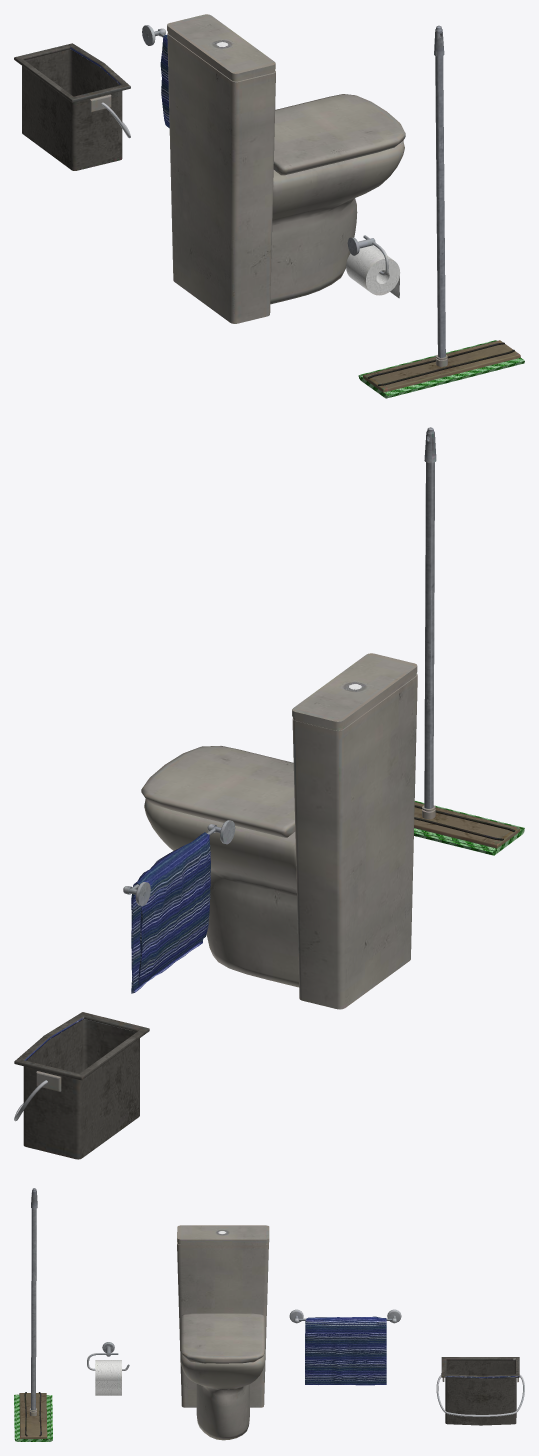
File: bath_set.glb
The picture shows the model from 3 angles, top to bottom: view 1: azimuth 30°, elevation 25°; view 2: azimuth 150°, elevation 25°; view 3: azimuth 270°, elevation 25°; orthographic projection. The views are drawn at different scales.
Visible parts, largest first — view 1: sm_klozet, sm_kova, sm_paspas, sm_pecetelik, sm_havluluk; view 2: sm_klozet, sm_kova, sm_havluluk, sm_paspas; view 3: sm_klozet, sm_havluluk, sm_kova, sm_paspas, sm_pecetelik.
Part boxes in pixels (left/top/right/bottom): sm_klozet: left=167, top=14, right=405, bottom=323; sm_kova: left=14, top=43, right=130, bottom=170; sm_paspas: left=358, top=25, right=524, bottom=398; sm_pecetelik: left=346, top=235, right=400, bottom=298; sm_havluluk: left=142, top=25, right=169, bottom=128; sm_klozet: left=141, top=653, right=417, bottom=1009; sm_kova: left=14, top=1012, right=149, bottom=1159; sm_havluluk: left=123, top=820, right=235, bottom=993; sm_paspas: left=414, top=427, right=524, bottom=855; sm_klozet: left=177, top=1225, right=269, bottom=1440; sm_havluluk: left=289, top=1309, right=401, bottom=1385; sm_kova: left=436, top=1357, right=524, bottom=1425; sm_paspas: left=14, top=1188, right=52, bottom=1441; sm_pecetelik: left=87, top=1342, right=129, bottom=1395.
Size of the model in its own units: 0.7971 by 1.45 by 2.81.
Materials: 1 (1 with a texture image).
